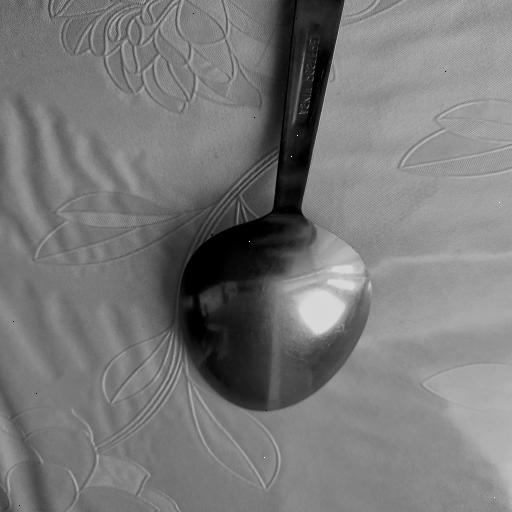spoon: (188, 0, 370, 409)
